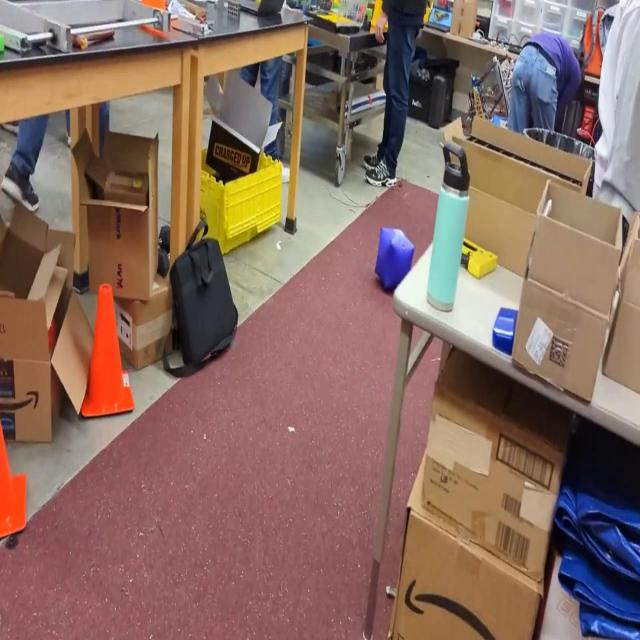frc_cone: (368, 0, 386, 34)
frc_cube: (373, 225, 415, 292)
